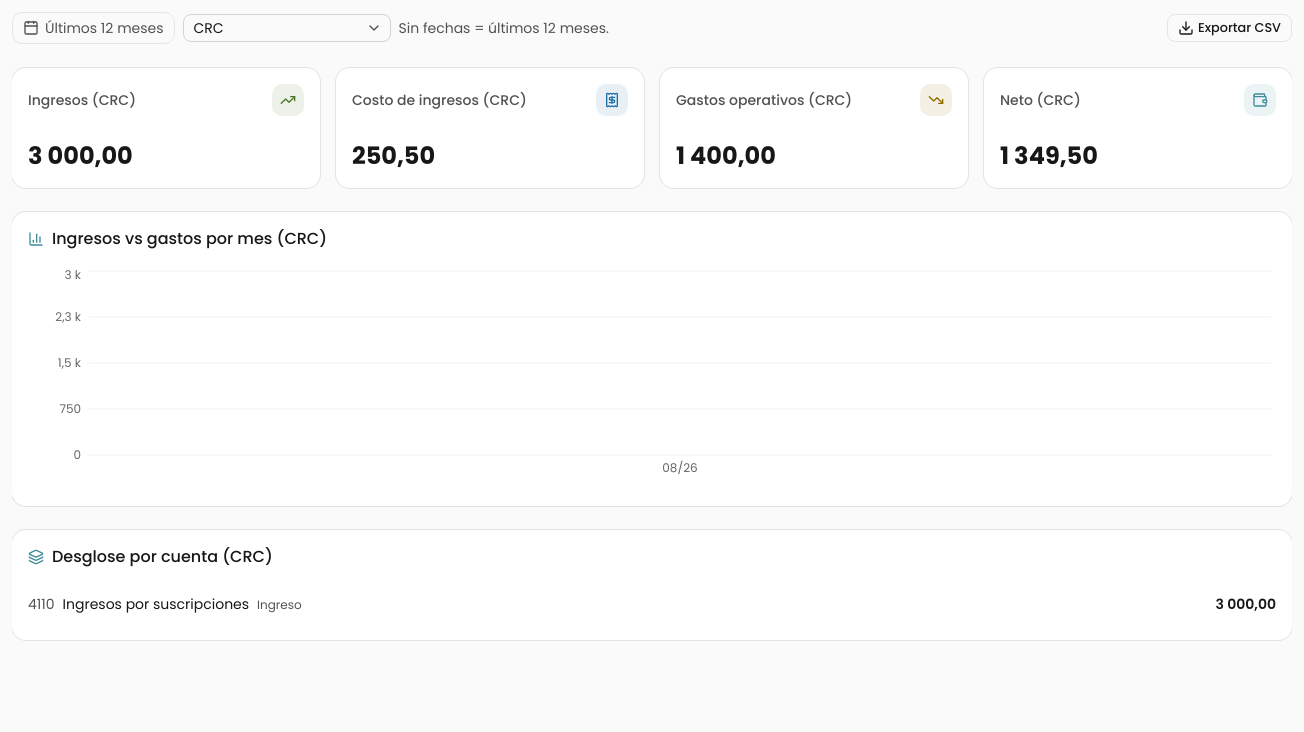
Test: PnlDashboard — el selector dice la moneda que se está pintando › si la moneda elegida desaparece del rango, el selector se sincroniza con los KPI
Check: the text "Ingresos (CRC)" is shown, box 28,90 -> 136,110
What coordinates should you click on to do the following:
click the dropdown named "Moneda"
I would click on:
 (286, 28)
Its box is 182,14 -> 390,42.
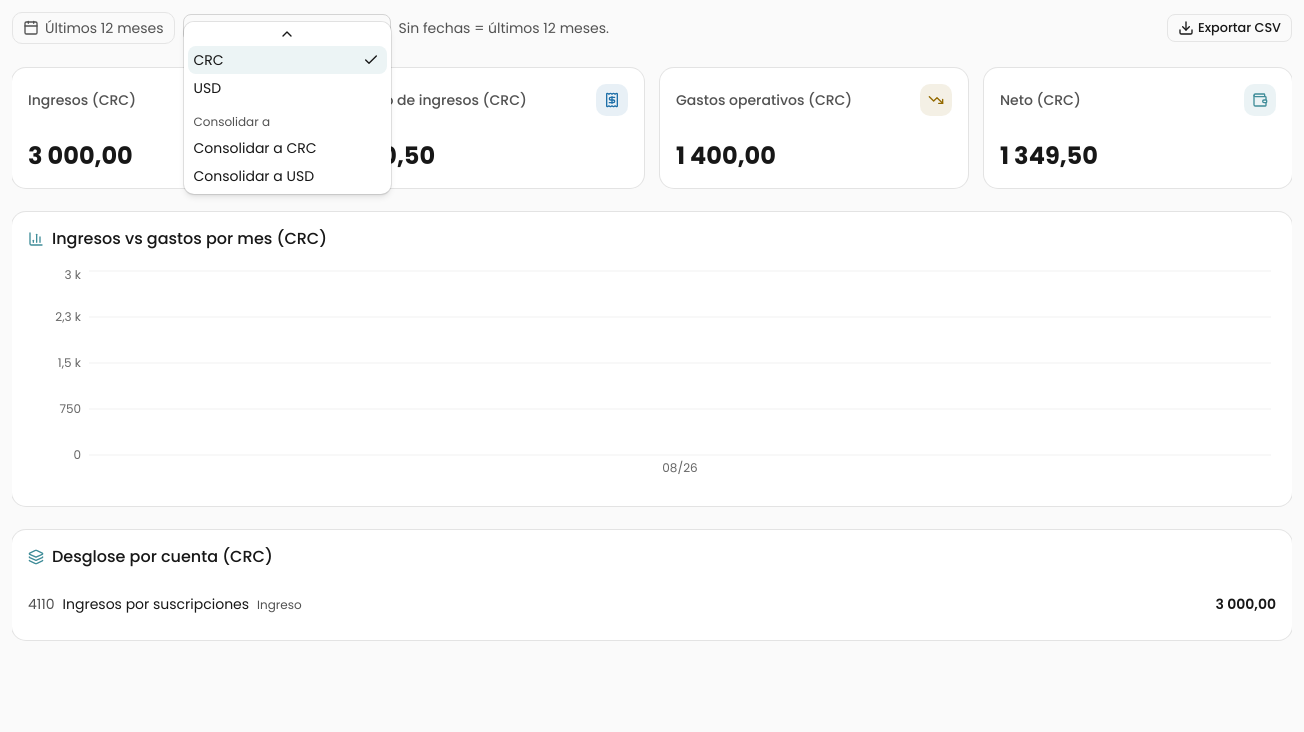
What coordinates should you click on to do the following:
click the option "USD"
I would click on:
 (207, 88)
Its box is 194,78 -> 221,98.
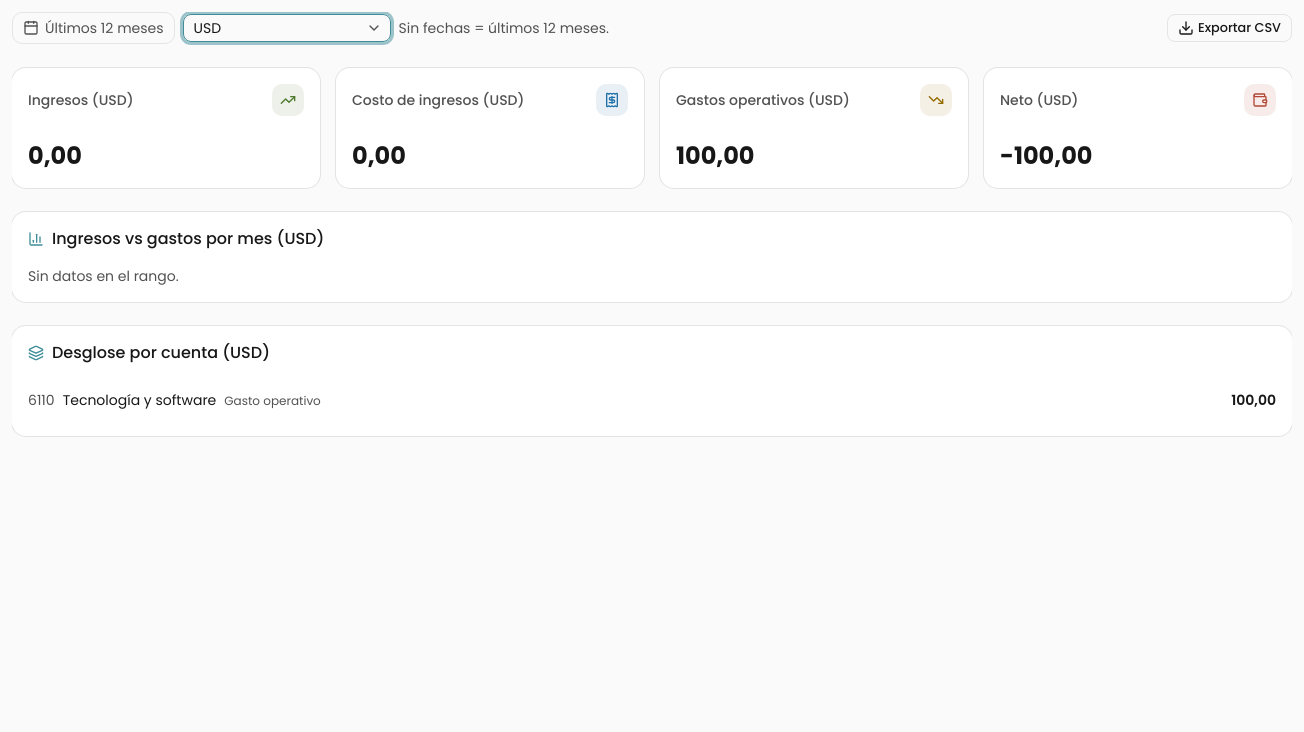
Check: the text "Ingresos (CRC)" is shown, box 12,68 -> 320,188
Check: the dropdown named "Moneda" reads "USD", box 182,14 -> 390,42
Check: the text "Ingresos (CRC)" is gone
